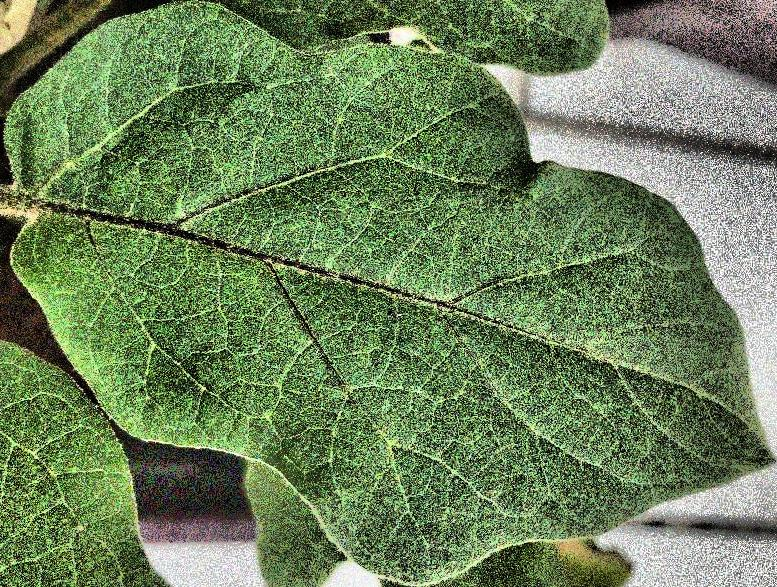HEALTHY: (1, 0, 777, 587)
